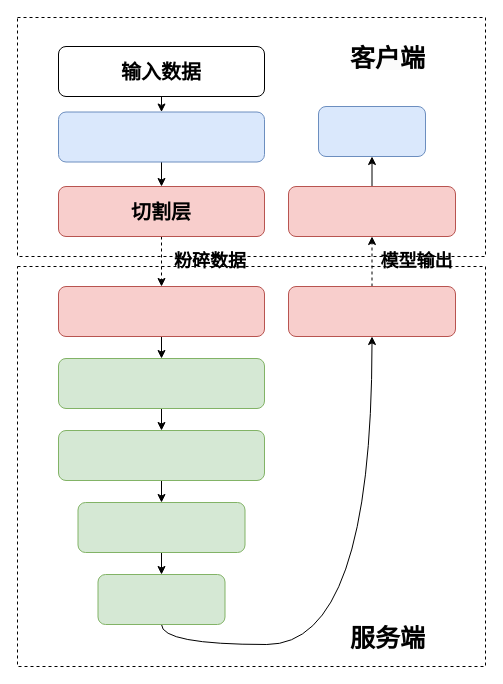
The diagram is 503 pixels wide and 684 high, and some of its shapes have lost their labels. The centre of each missing label's shape, as x and y in pixels:
标签: [372,131]
输入层: [161,311]
